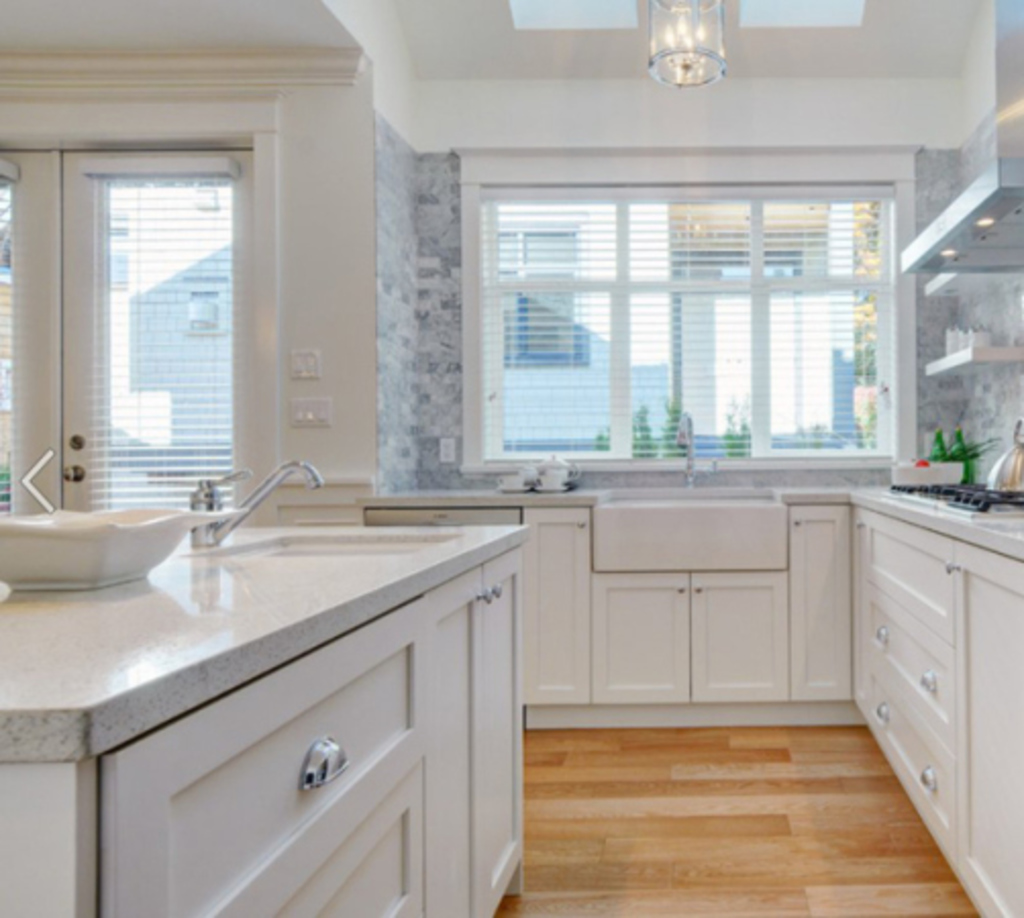cabinet door: (154, 644, 414, 801), (246, 820, 430, 918), (430, 595, 478, 915), (790, 509, 850, 699), (486, 571, 523, 863), (529, 519, 590, 691), (695, 580, 786, 695), (865, 697, 959, 802), (595, 584, 686, 692), (868, 615, 961, 704), (866, 546, 951, 606)
handle: (294, 743, 350, 792), (918, 762, 945, 797), (875, 626, 897, 655), (918, 672, 938, 699), (873, 699, 890, 727)
